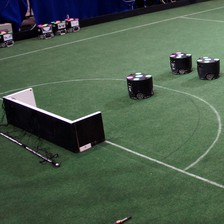robot: (124, 70, 155, 98), (166, 49, 192, 74), (194, 54, 219, 79), (35, 22, 54, 39), (64, 15, 81, 32), (1, 29, 14, 47), (52, 19, 66, 35)
